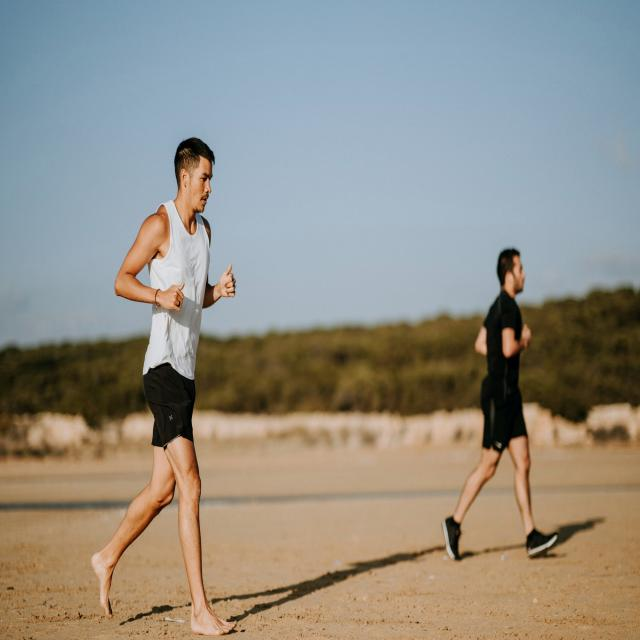adult: (90, 136, 234, 632), (445, 245, 557, 561)
